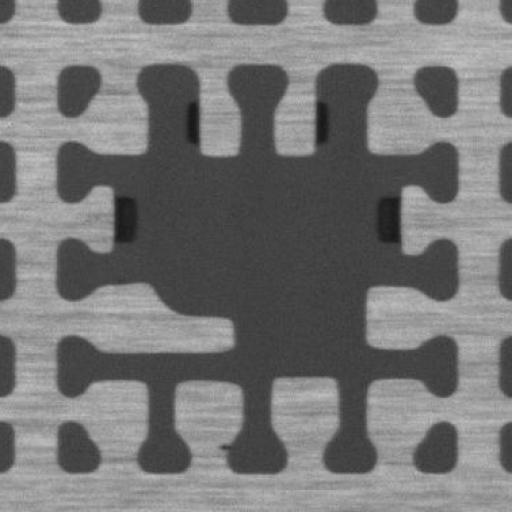NO_DIE: (50, 55, 469, 476)
